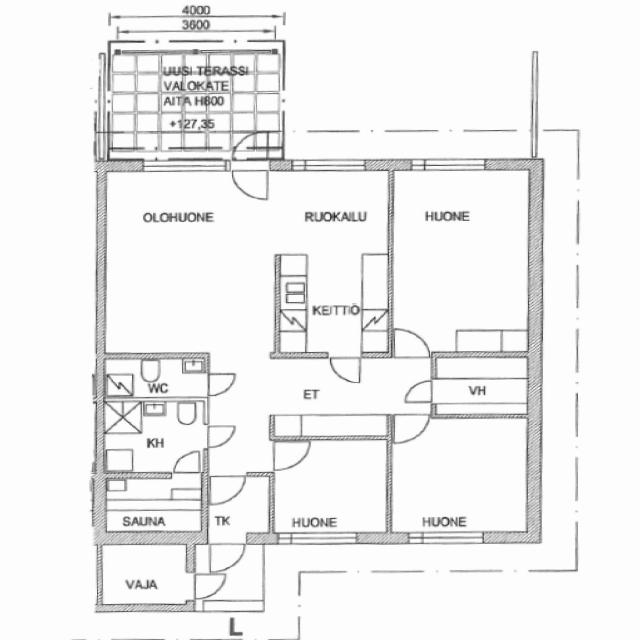door: (232, 159, 268, 200), (232, 131, 268, 171), (210, 532, 245, 572), (269, 442, 310, 471), (210, 472, 246, 505), (187, 572, 229, 600), (396, 326, 429, 358), (394, 415, 428, 445), (329, 353, 360, 384), (203, 424, 238, 448), (172, 450, 200, 478), (203, 374, 236, 396), (405, 381, 436, 402)
